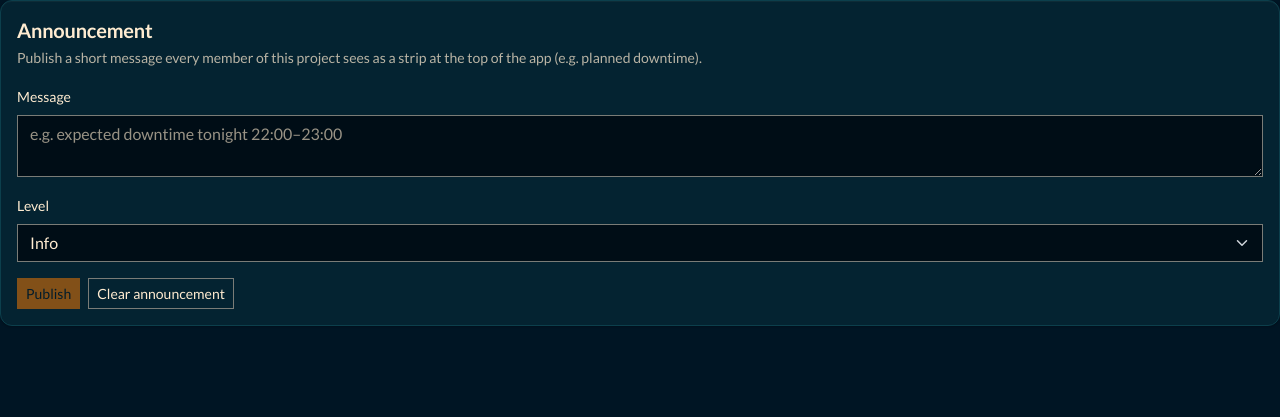
AnnouncementComposer › publishes a message at the chosen level
Type "Downtime" into the text box labelled "Message".
click(640, 146); type("Downtime")  # box x1=17 y1=115 x2=1263 y2=177
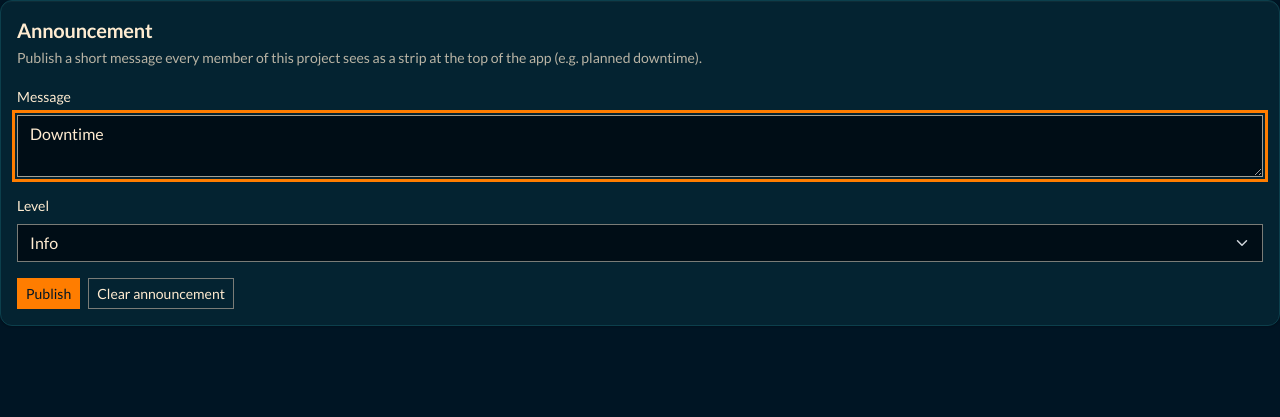
Select "Warning" in the dropdown labelled "Level" at [640, 243], box x1=17 y1=224 x2=1263 y2=262
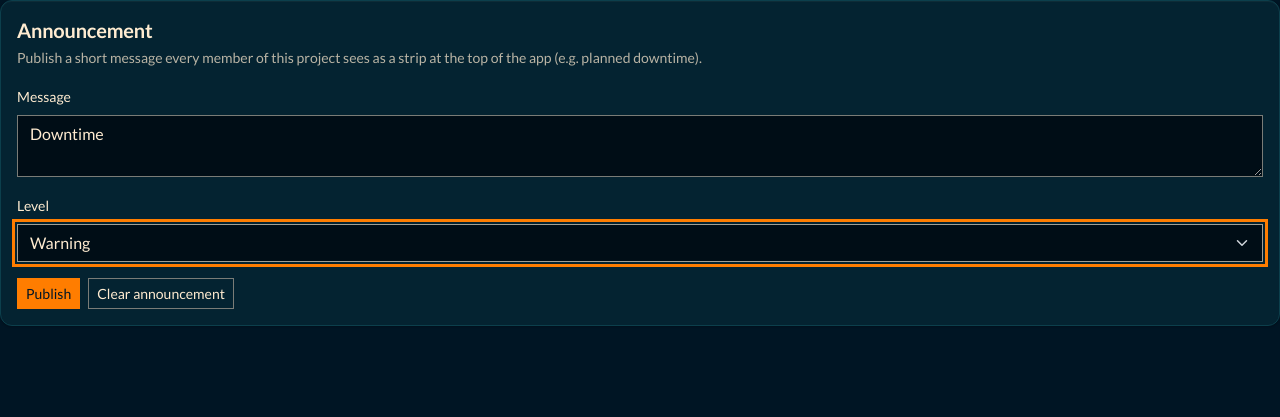
Click the button "Publish".
click(49, 294)  # box x1=17 y1=278 x2=80 y2=309
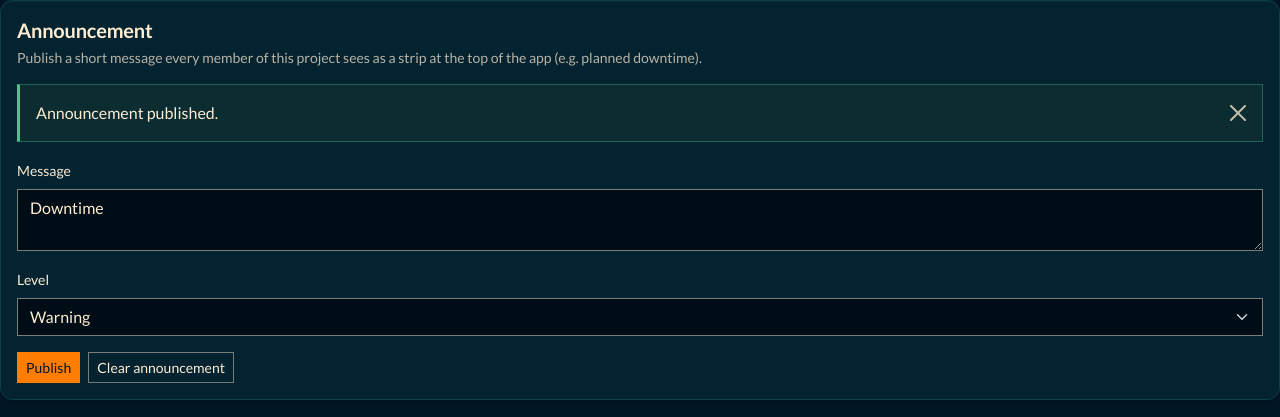
Check: the text "Announcement published." is shown, box x1=17 y1=84 x2=1263 y2=142
